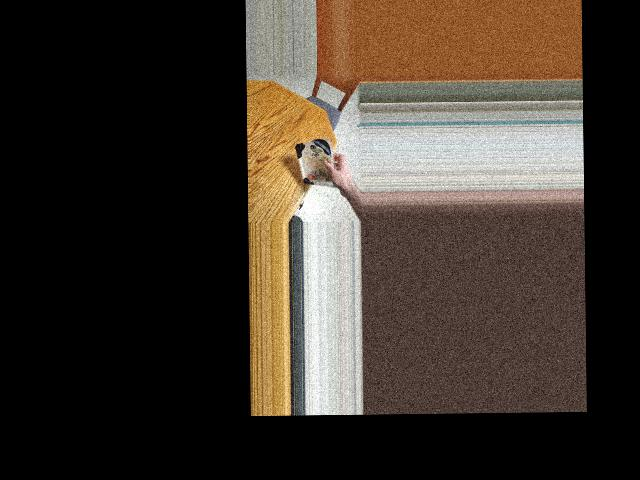cheese: (298, 136, 338, 196)
